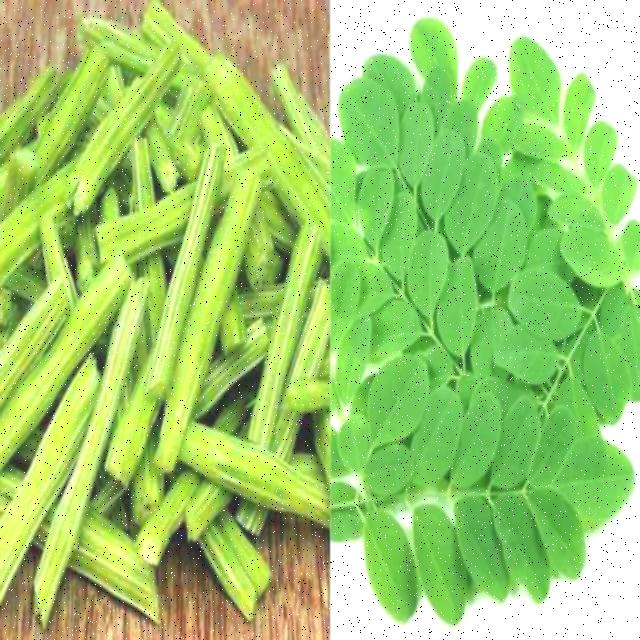Moringa Drumsticks: (16, 82, 314, 531)
Moringa Leaves: (354, 87, 598, 594)
